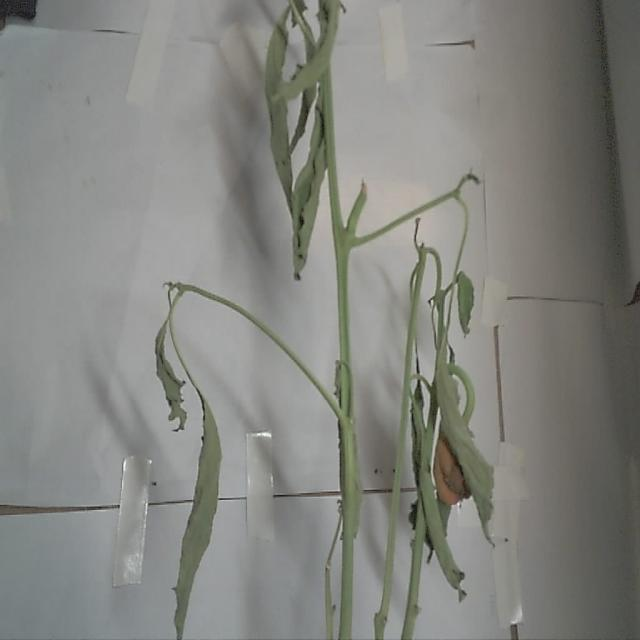Leaf: (433, 320, 499, 550), (176, 351, 222, 639), (264, 5, 299, 231), (290, 96, 327, 272), (154, 294, 188, 428)
